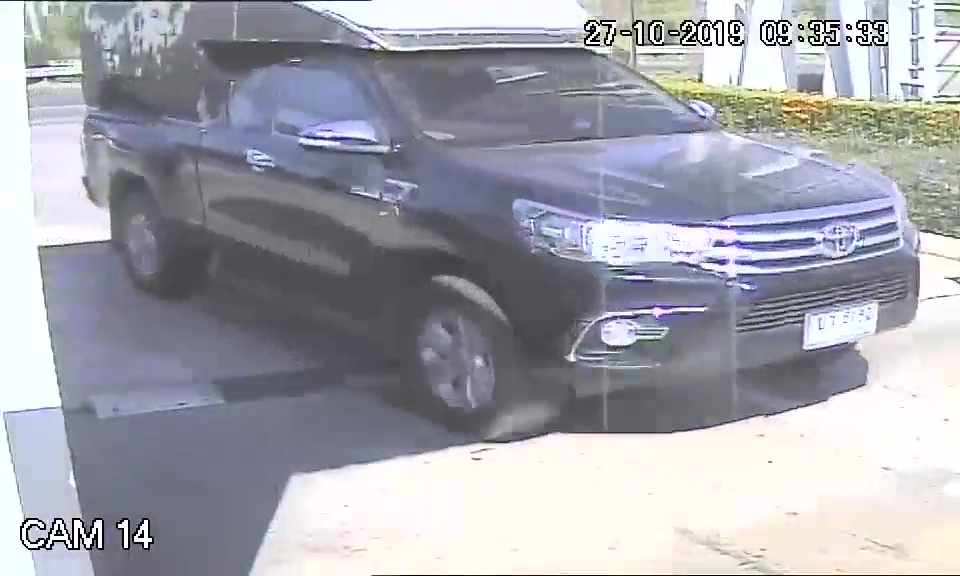pickup: (77, 32, 924, 443)
